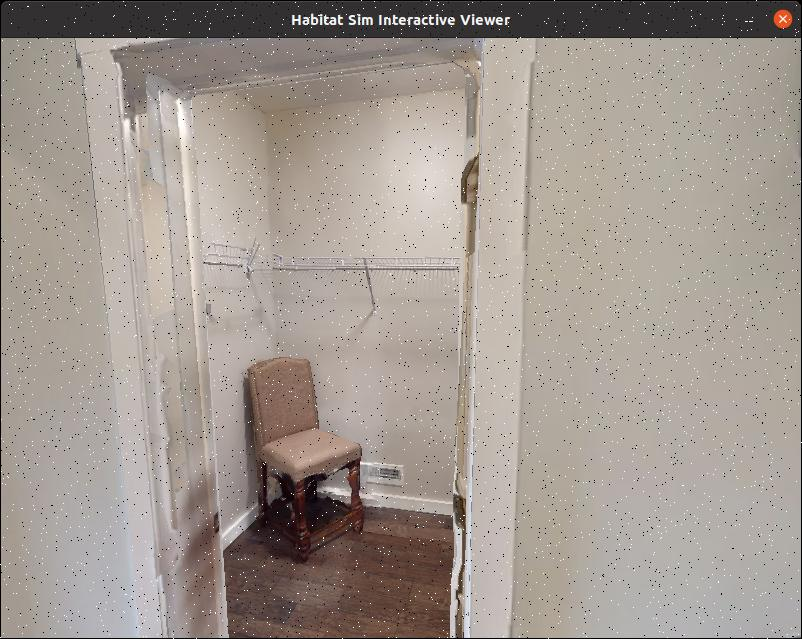chair: (211, 327, 389, 576)
door-frame: (63, 41, 556, 639)
